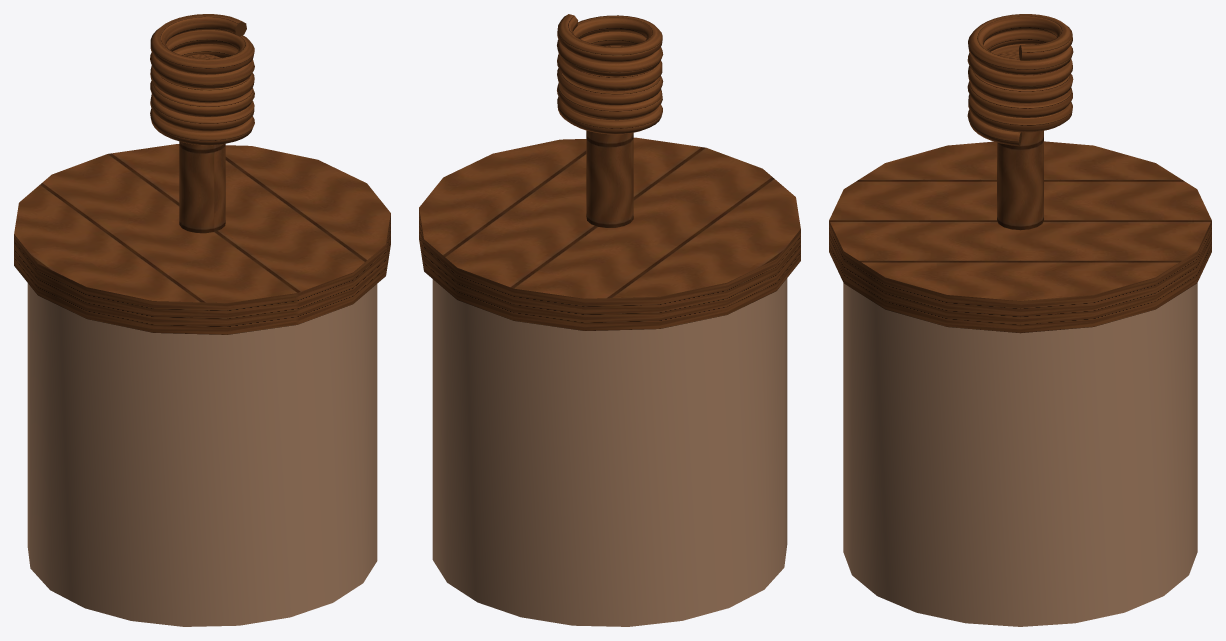
The model's file is survival-food-and-preservation-honey-crock-52a7b5b1__21772.glb.
3 renders of one model, left to right at view 1: azimuth 30°, elevation 25°; view 2: azimuth 150°, elevation 25°; view 3: azimuth 270°, elevation 25°, orthographic.
Parts seen in each view (by area): view 1: honey-crock; view 2: honey-crock; view 3: honey-crock.
Boxes of the visible parts, x1,y1,x2,y2 form: honey-crock: [14, 14, 390, 626]; honey-crock: [419, 14, 800, 626]; honey-crock: [829, 14, 1211, 626].
Bounding box in the file's own units: 0.162 × 0.2453 × 0.162.
Materials: 2 (1 with a texture image).
